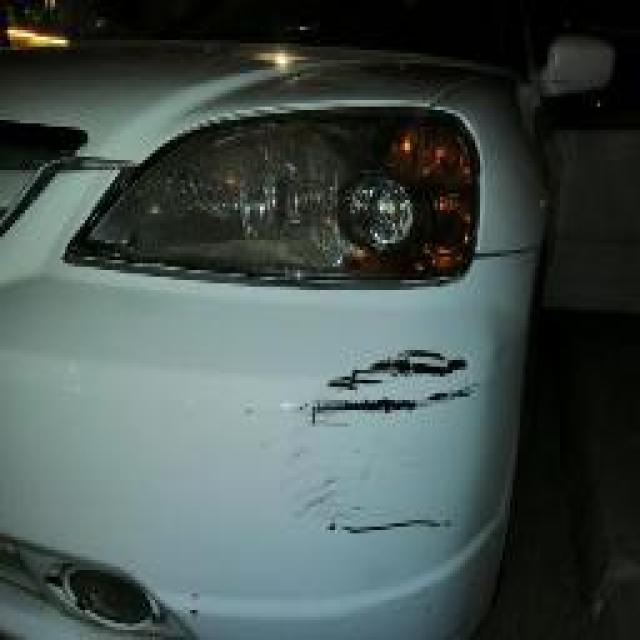Bumper: (12, 280, 640, 623)
